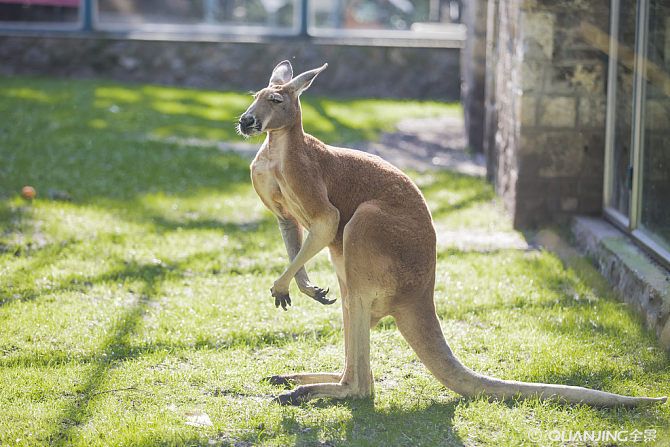kangaroo: (229, 56, 667, 412)
